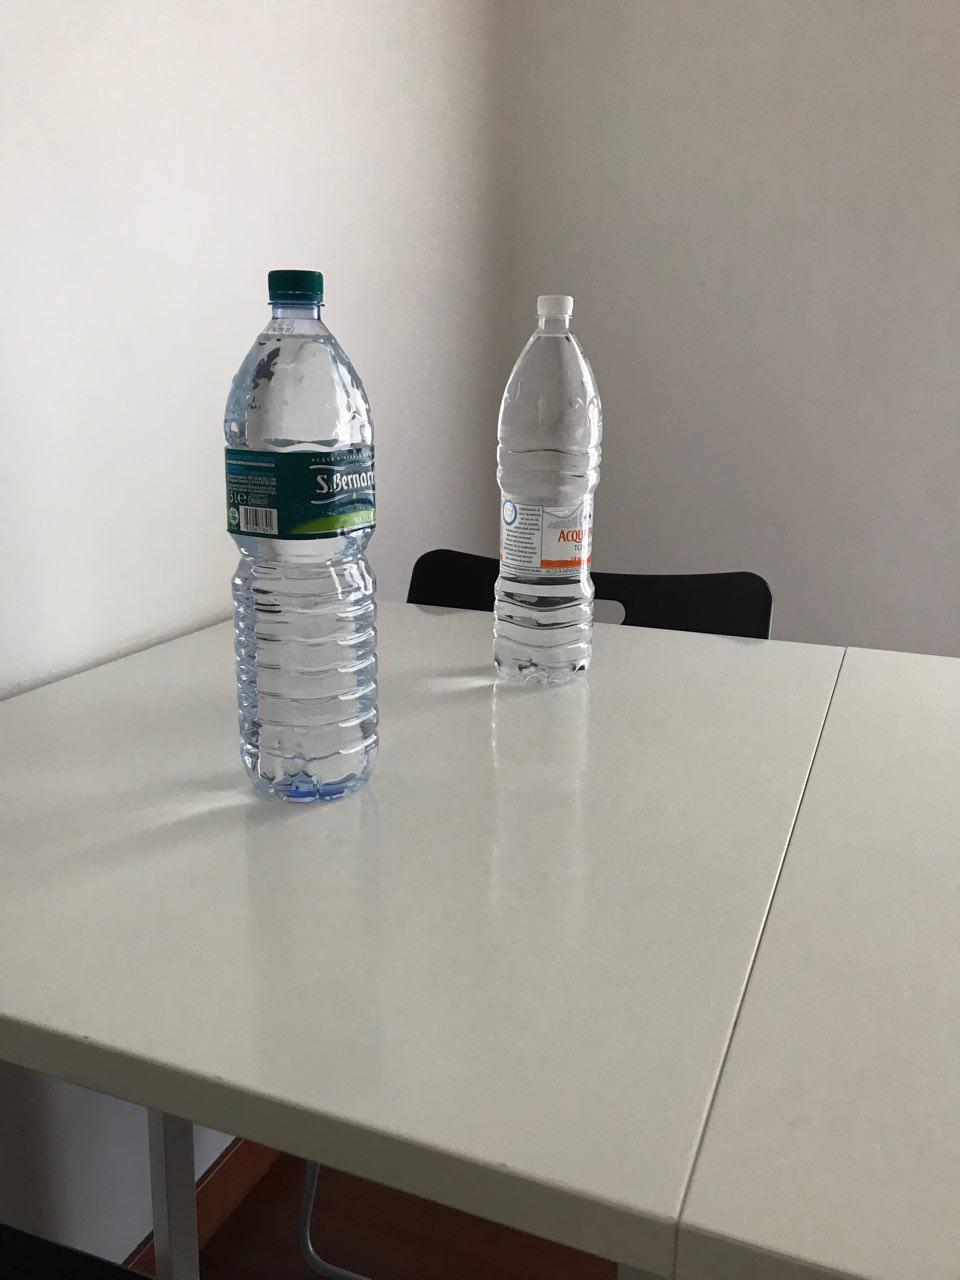san_bernardo: (222, 269, 380, 805)
